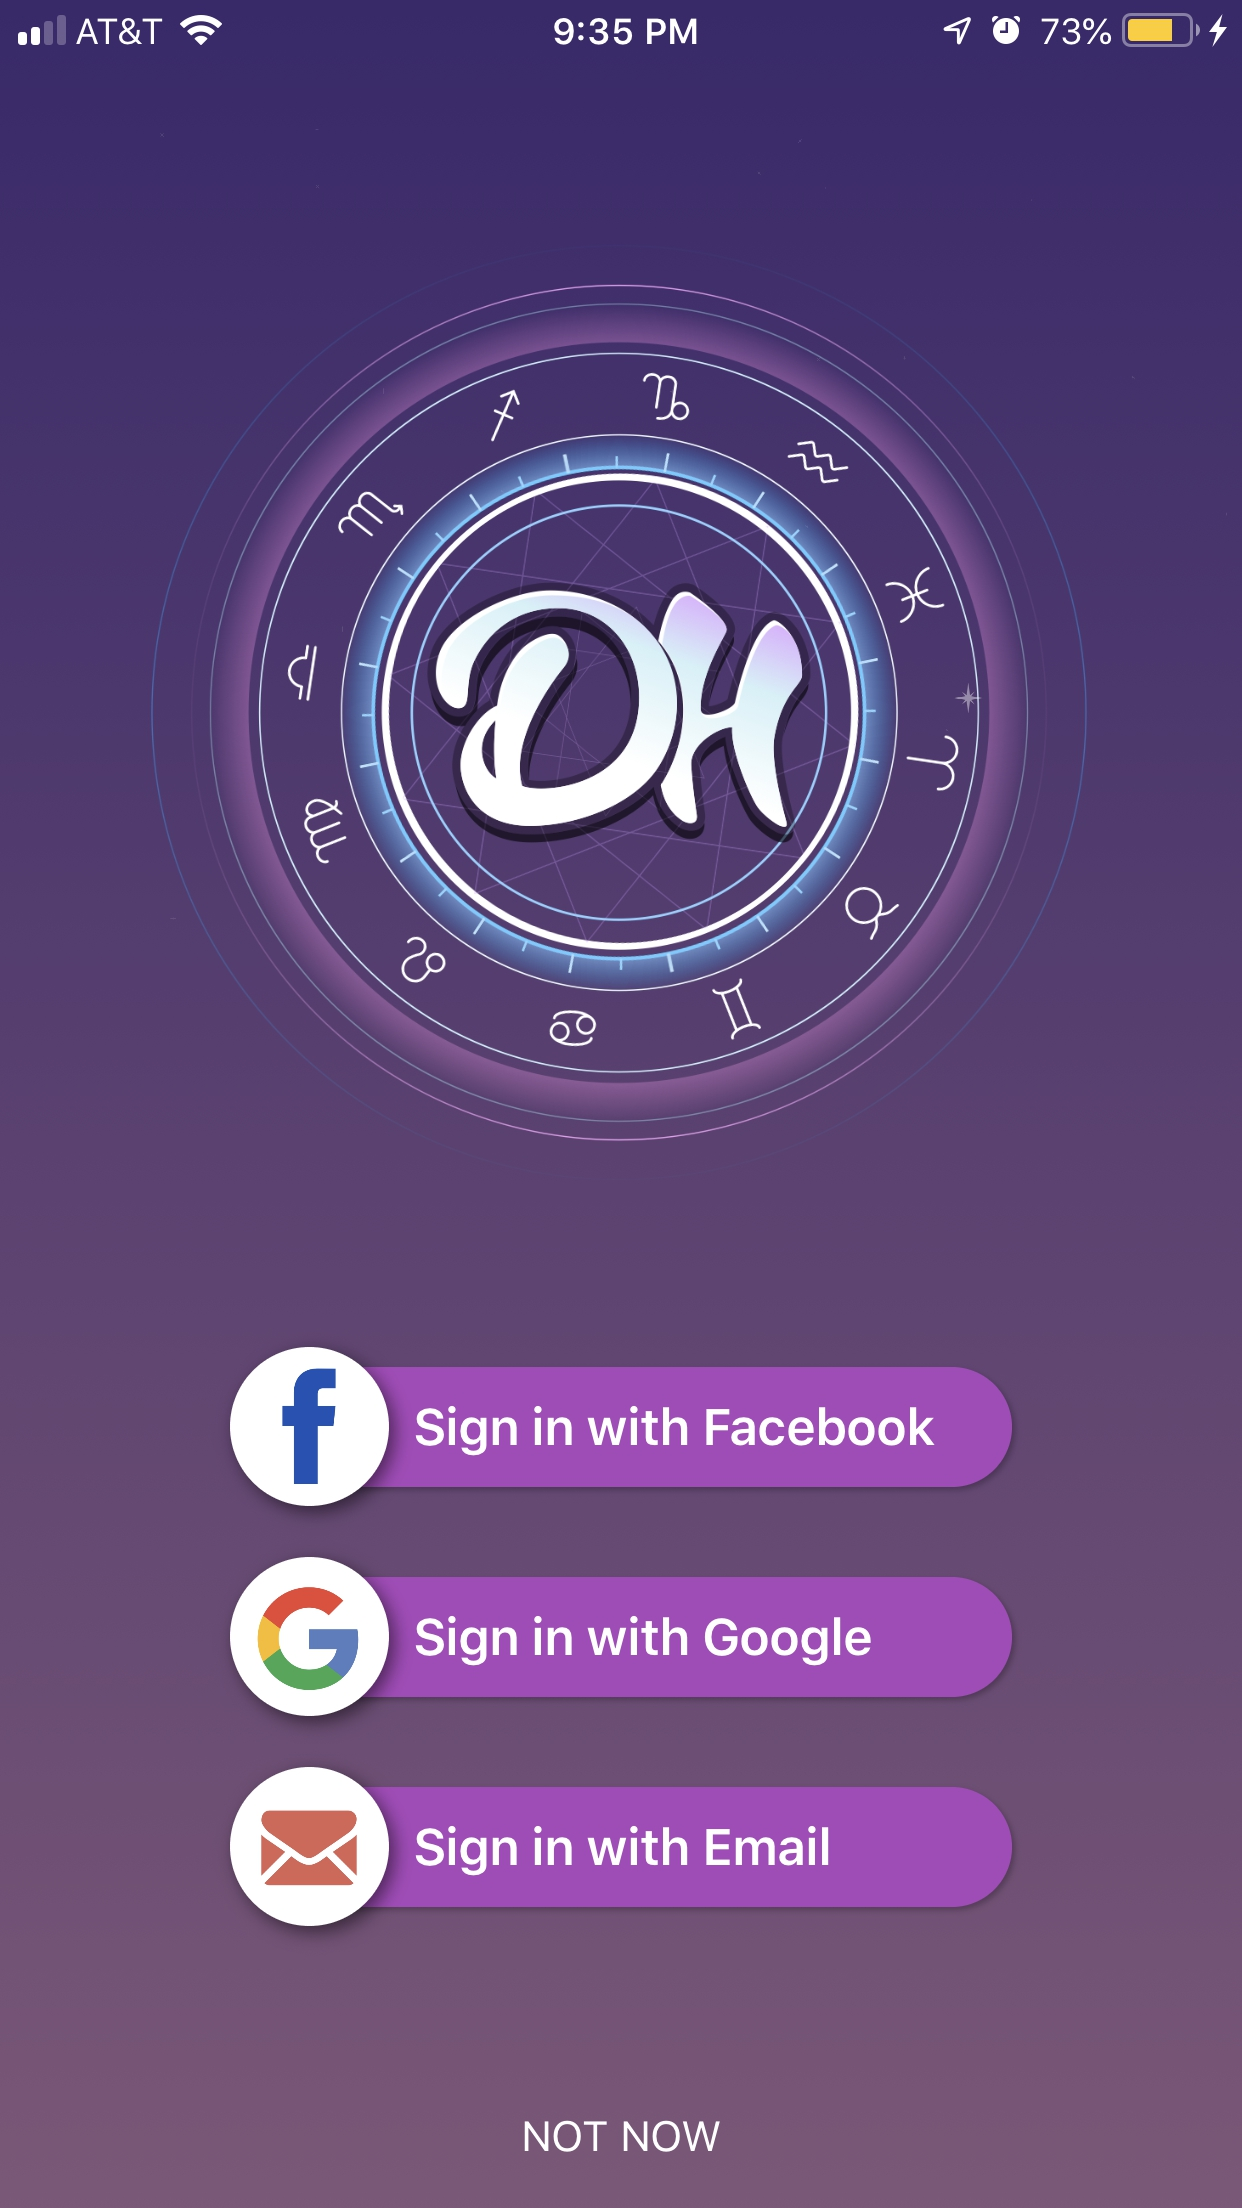Icon: (231, 1767, 390, 1927), (231, 1347, 390, 1507), (231, 1557, 390, 1717)
Image: (150, 243, 1090, 1146)
Text: (525, 2119, 723, 2153)
TextButton: (391, 1576, 1015, 1698), (390, 1366, 1013, 1488), (391, 1786, 1013, 1908)
UpperTaskBar: (2, 2, 1242, 49)
